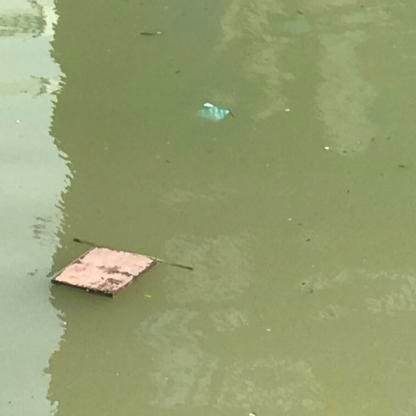Trash: (53, 241, 158, 296), (189, 89, 233, 123)
